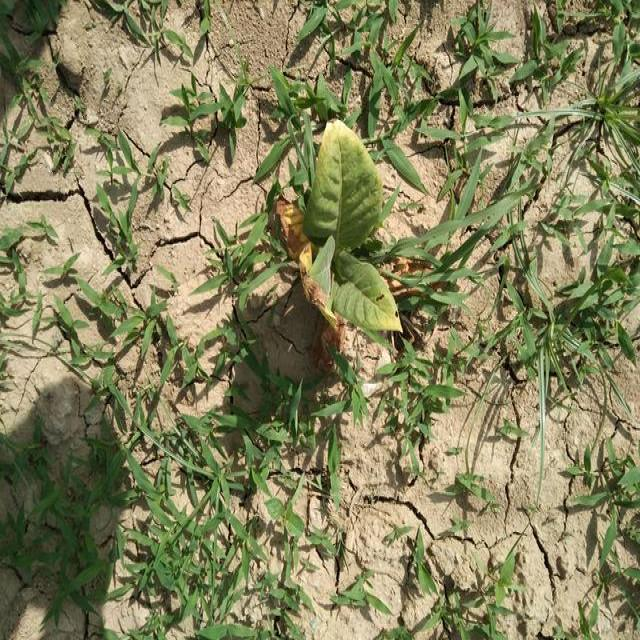crop: (303, 102, 407, 348)
